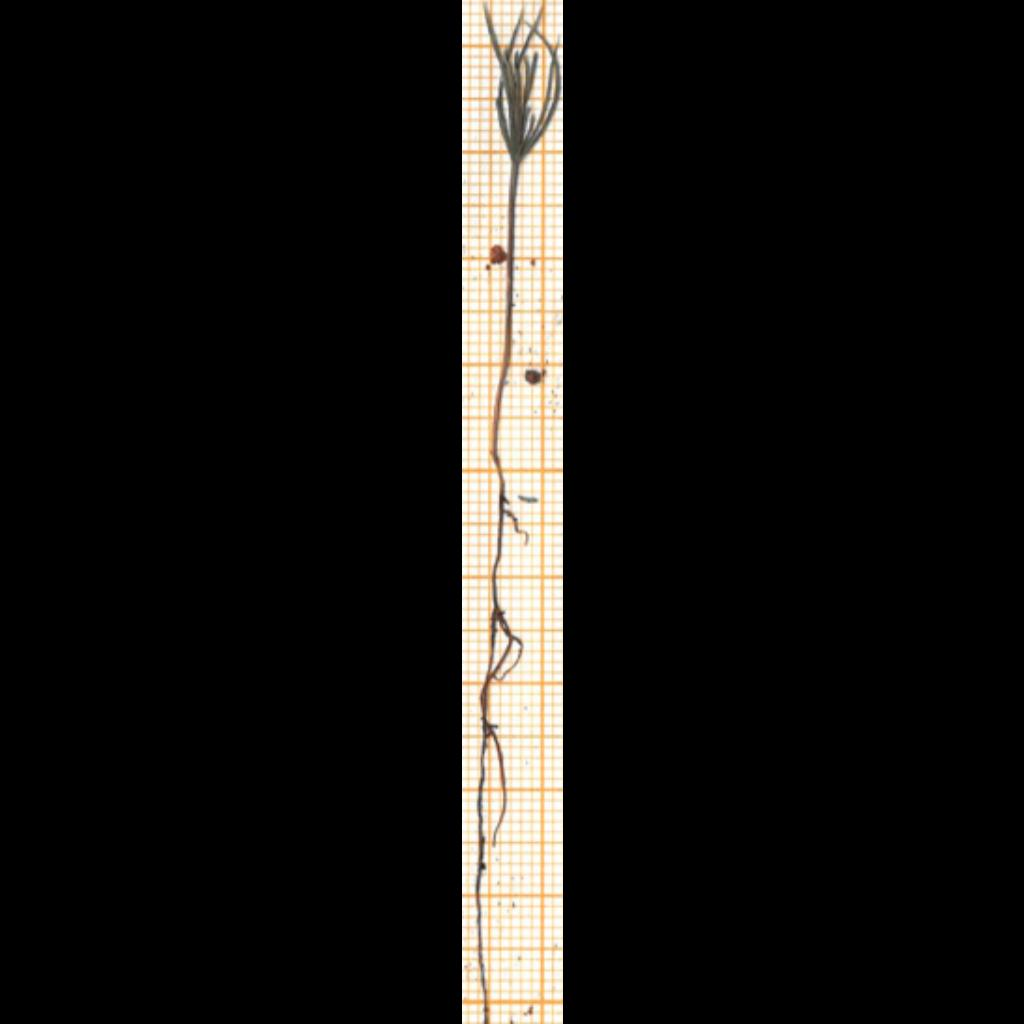flowerPinus: (485, 4, 561, 165)
rootPinus: (477, 498, 521, 1023)
stemPinus: (492, 170, 518, 496)
